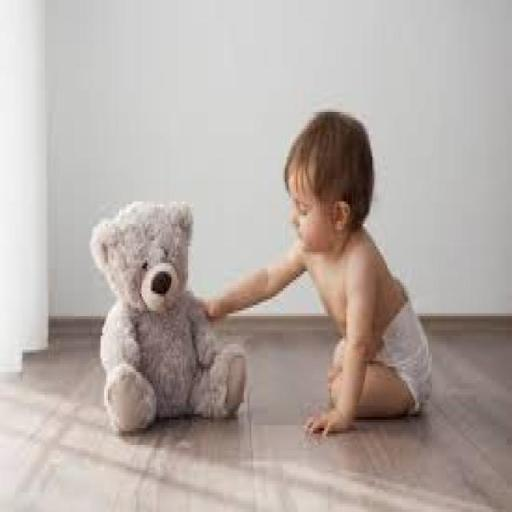baby: (196, 110, 436, 434)
